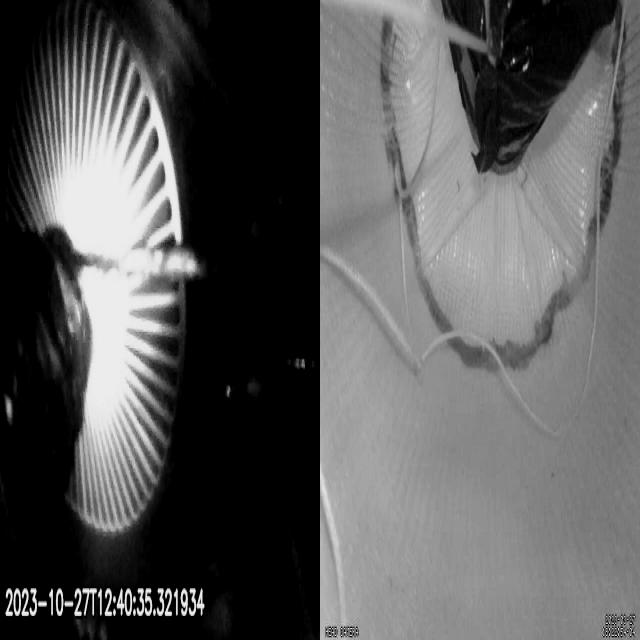red-circle: (379, 0, 626, 373)
